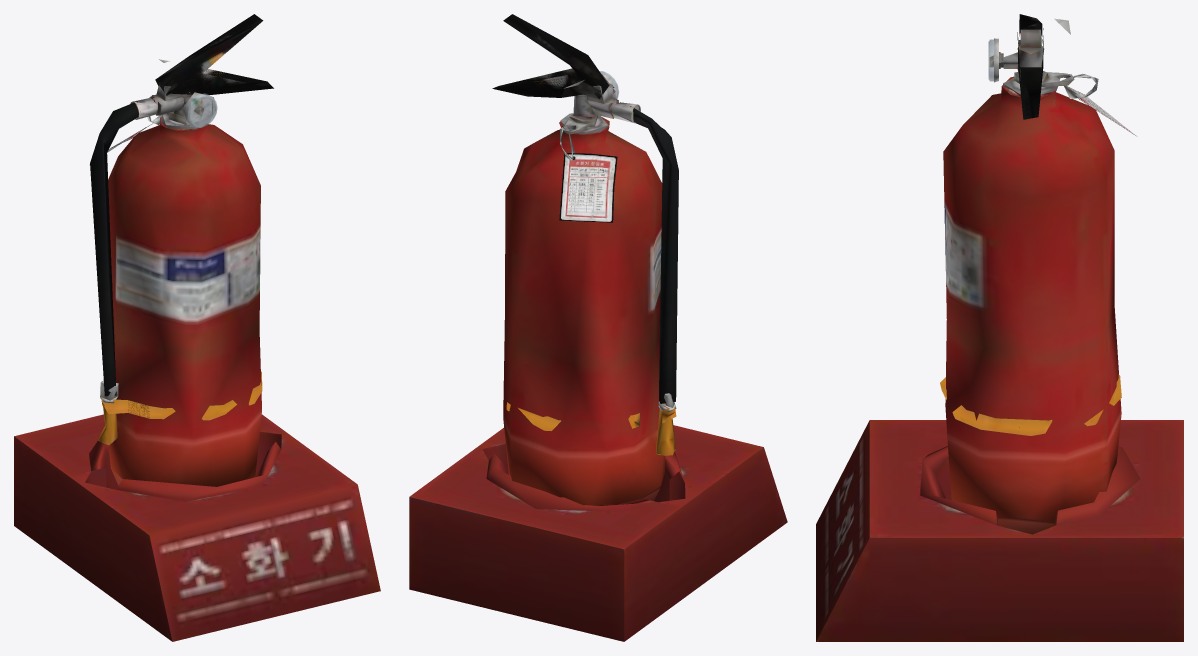
Rendered from korean_fire_extinguisher_01.glb.
3 views of the same model, side by side, from view 1: azimuth 30°, elevation 25°; view 2: azimuth 150°, elevation 25°; view 3: azimuth 270°, elevation 25° (orthographic). The views are drawn at different scales.
Parts seen in each view (by area): view 1: korean_fire_extinguisher_01; view 2: korean_fire_extinguisher_01; view 3: korean_fire_extinguisher_01.
Part boxes in pixels (x1=…): korean_fire_extinguisher_01: x1=14, y1=14, x2=380, y2=641; korean_fire_extinguisher_01: x1=409, y1=14, x2=787, y2=641; korean_fire_extinguisher_01: x1=816, y1=14, x2=1183, y2=641.
Bounding box in the file's own units: 0.279 × 0.6567 × 0.3675.
3 materials, 3 textured.
